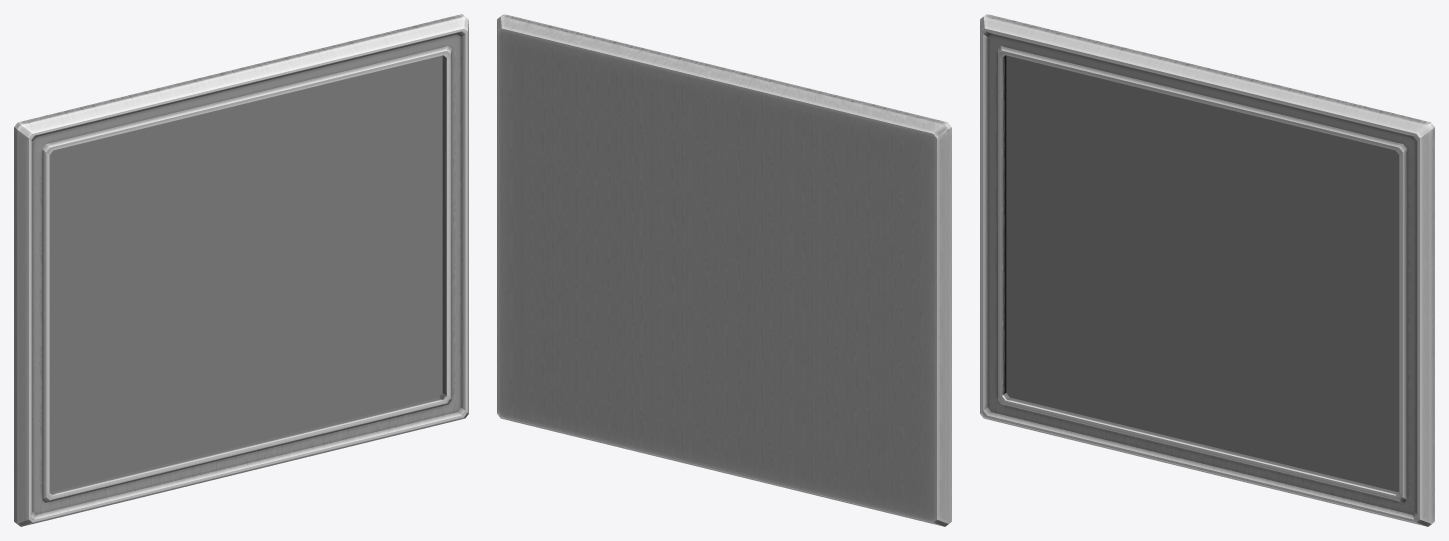
The model's file is Static_Frame_Box_Light.FBX.
The picture shows the model from 3 angles, left to right: view 1: azimuth 30°, elevation 25°; view 2: azimuth 150°, elevation 25°; view 3: azimuth 330°, elevation 25°; orthographic projection.
Parts seen in each view (by area): view 1: passepartout 1, frame 2; view 2: frame 2; view 3: passepartout 1, frame 2.
Boxes of the visible parts, x1,y1,x2,y2 form: passepartout 1: [49, 55, 442, 492]; frame 2: [14, 14, 468, 526]; frame 2: [497, 14, 951, 526]; passepartout 1: [1006, 55, 1399, 492]; frame 2: [980, 14, 1434, 526].
Size of the model in its own units: 117 by 99.88 by 6.19.
